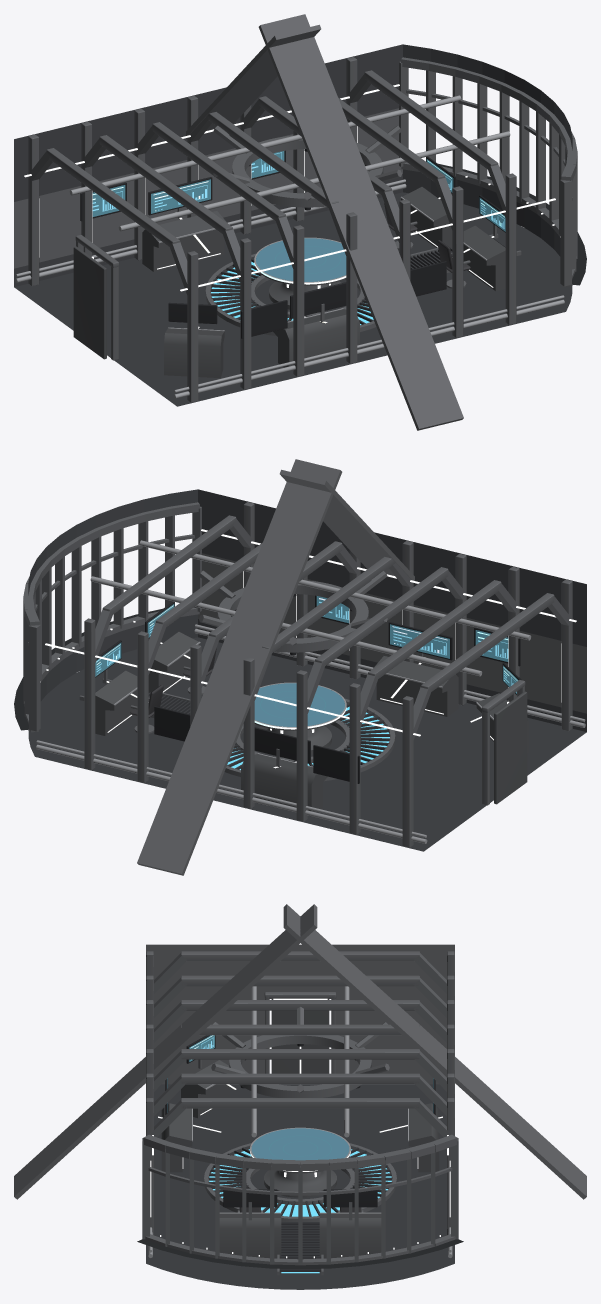
The model's file is bridge.glb.
3 views of the same model, one above another, from view 1: azimuth 30°, elevation 25°; view 2: azimuth 150°, elevation 25°; view 3: azimuth 270°, elevation 25° (orthographic). The views are drawn at different scales.
Parts seen in each view (by area): view 1: room, window_frame, console_4, console_3, holotable, console_5, console_1, console_2; view 2: room, window_frame, console_3, console_4, holotable, console_2, console_1, console_5; view 3: room, window_frame, holotable, console_1, console_2, console_5, console_3, console_4.
Boxes of the visible parts, box(x1,y1,x2,y2) form: room: box(14, 14, 572, 430); window_frame: box(399, 44, 586, 287); console_4: box(142, 177, 227, 271); console_3: box(273, 282, 359, 370); holotable: box(254, 237, 346, 309); console_5: box(164, 302, 224, 378); console_1: box(463, 195, 505, 290); console_2: box(400, 156, 455, 247); room: box(28, 459, 586, 875); window_frame: box(14, 489, 201, 732); console_3: box(373, 622, 458, 716); console_4: box(241, 727, 327, 815); holotable: box(254, 682, 346, 754); console_2: box(95, 640, 137, 735); console_1: box(145, 601, 200, 692); console_5: box(470, 663, 529, 752); room: box(14, 904, 586, 1289); window_frame: box(137, 1134, 463, 1269); holotable: box(250, 1127, 350, 1197); console_1: box(219, 1189, 281, 1257); console_2: box(319, 1189, 381, 1257); console_5: box(181, 1035, 236, 1118); console_3: box(158, 1078, 221, 1172); console_4: box(379, 1078, 442, 1172).
Bounding box in the file's own units: 13.15 × 7.86 × 14.85.
